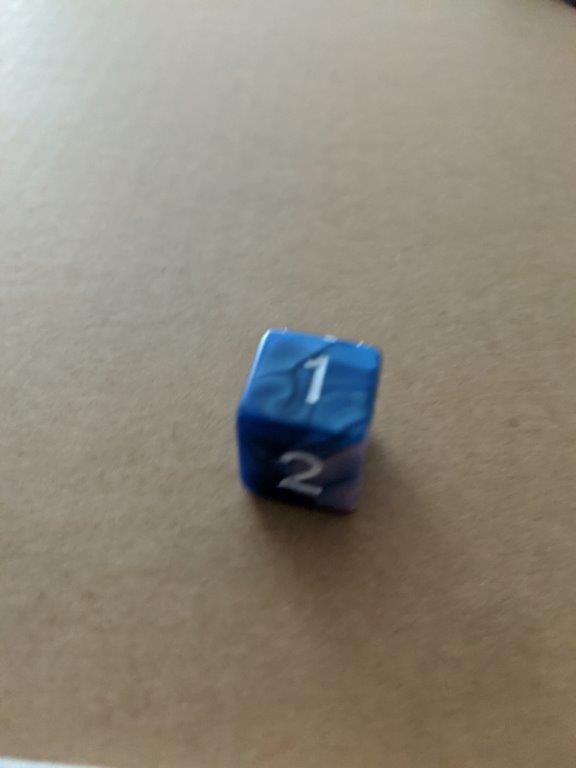d6-1: (234, 327, 388, 515)
